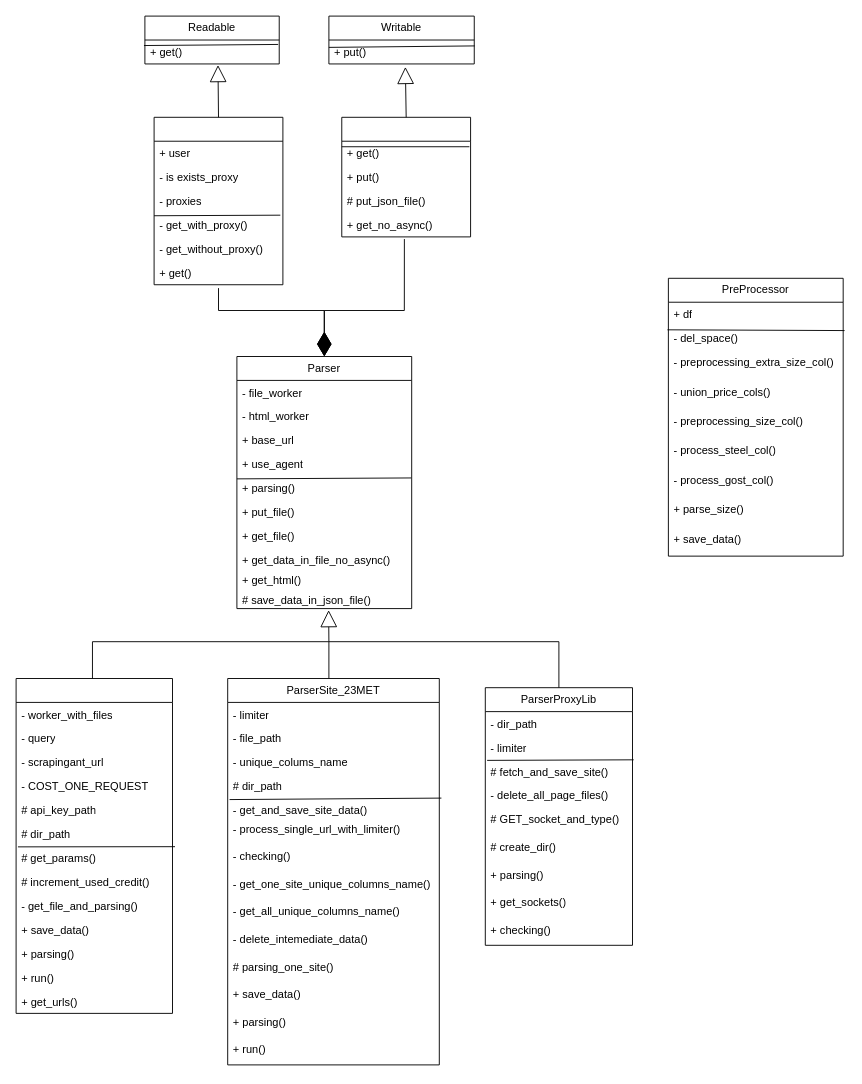
Image size: 862x1084. Some labels were removed from this diagram. Each missing label, with the box of its shape:
GoogleParser: (15, 678, 172, 1013)
WorkerWithFiles: (341, 116, 471, 237)
WorkerWithHtml: (153, 116, 283, 285)
